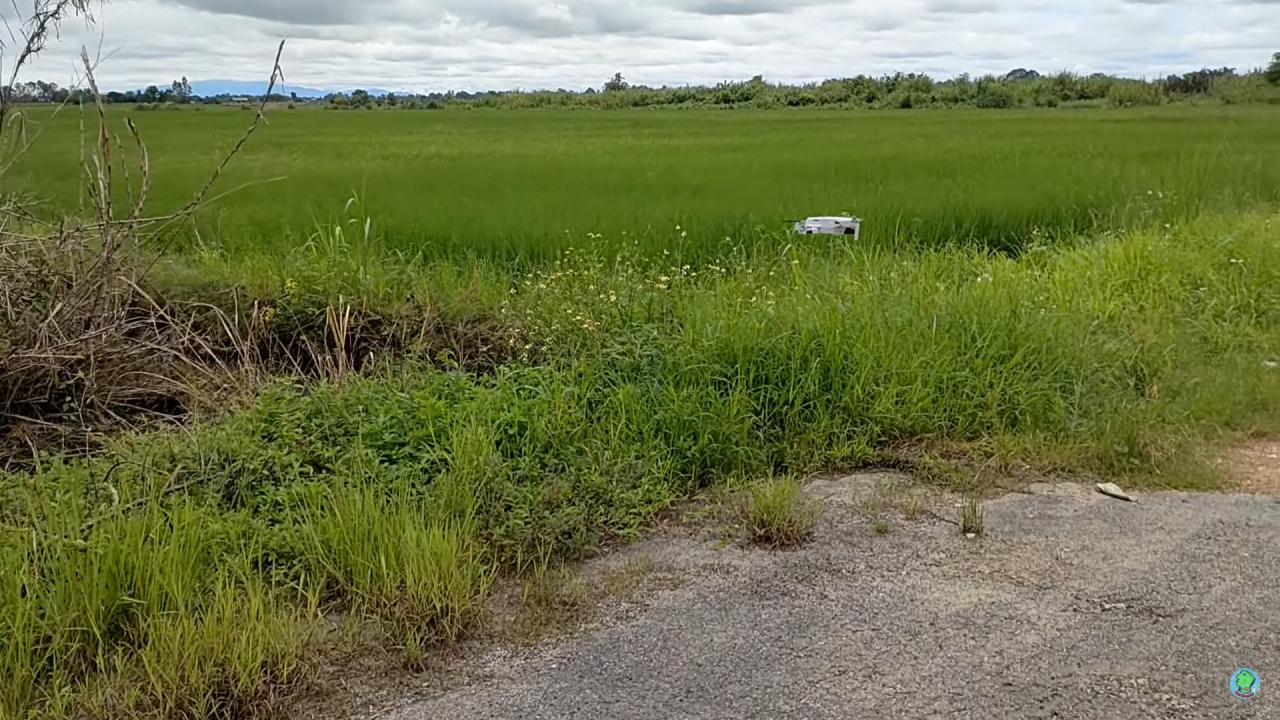Drone: (770, 203, 881, 251)
